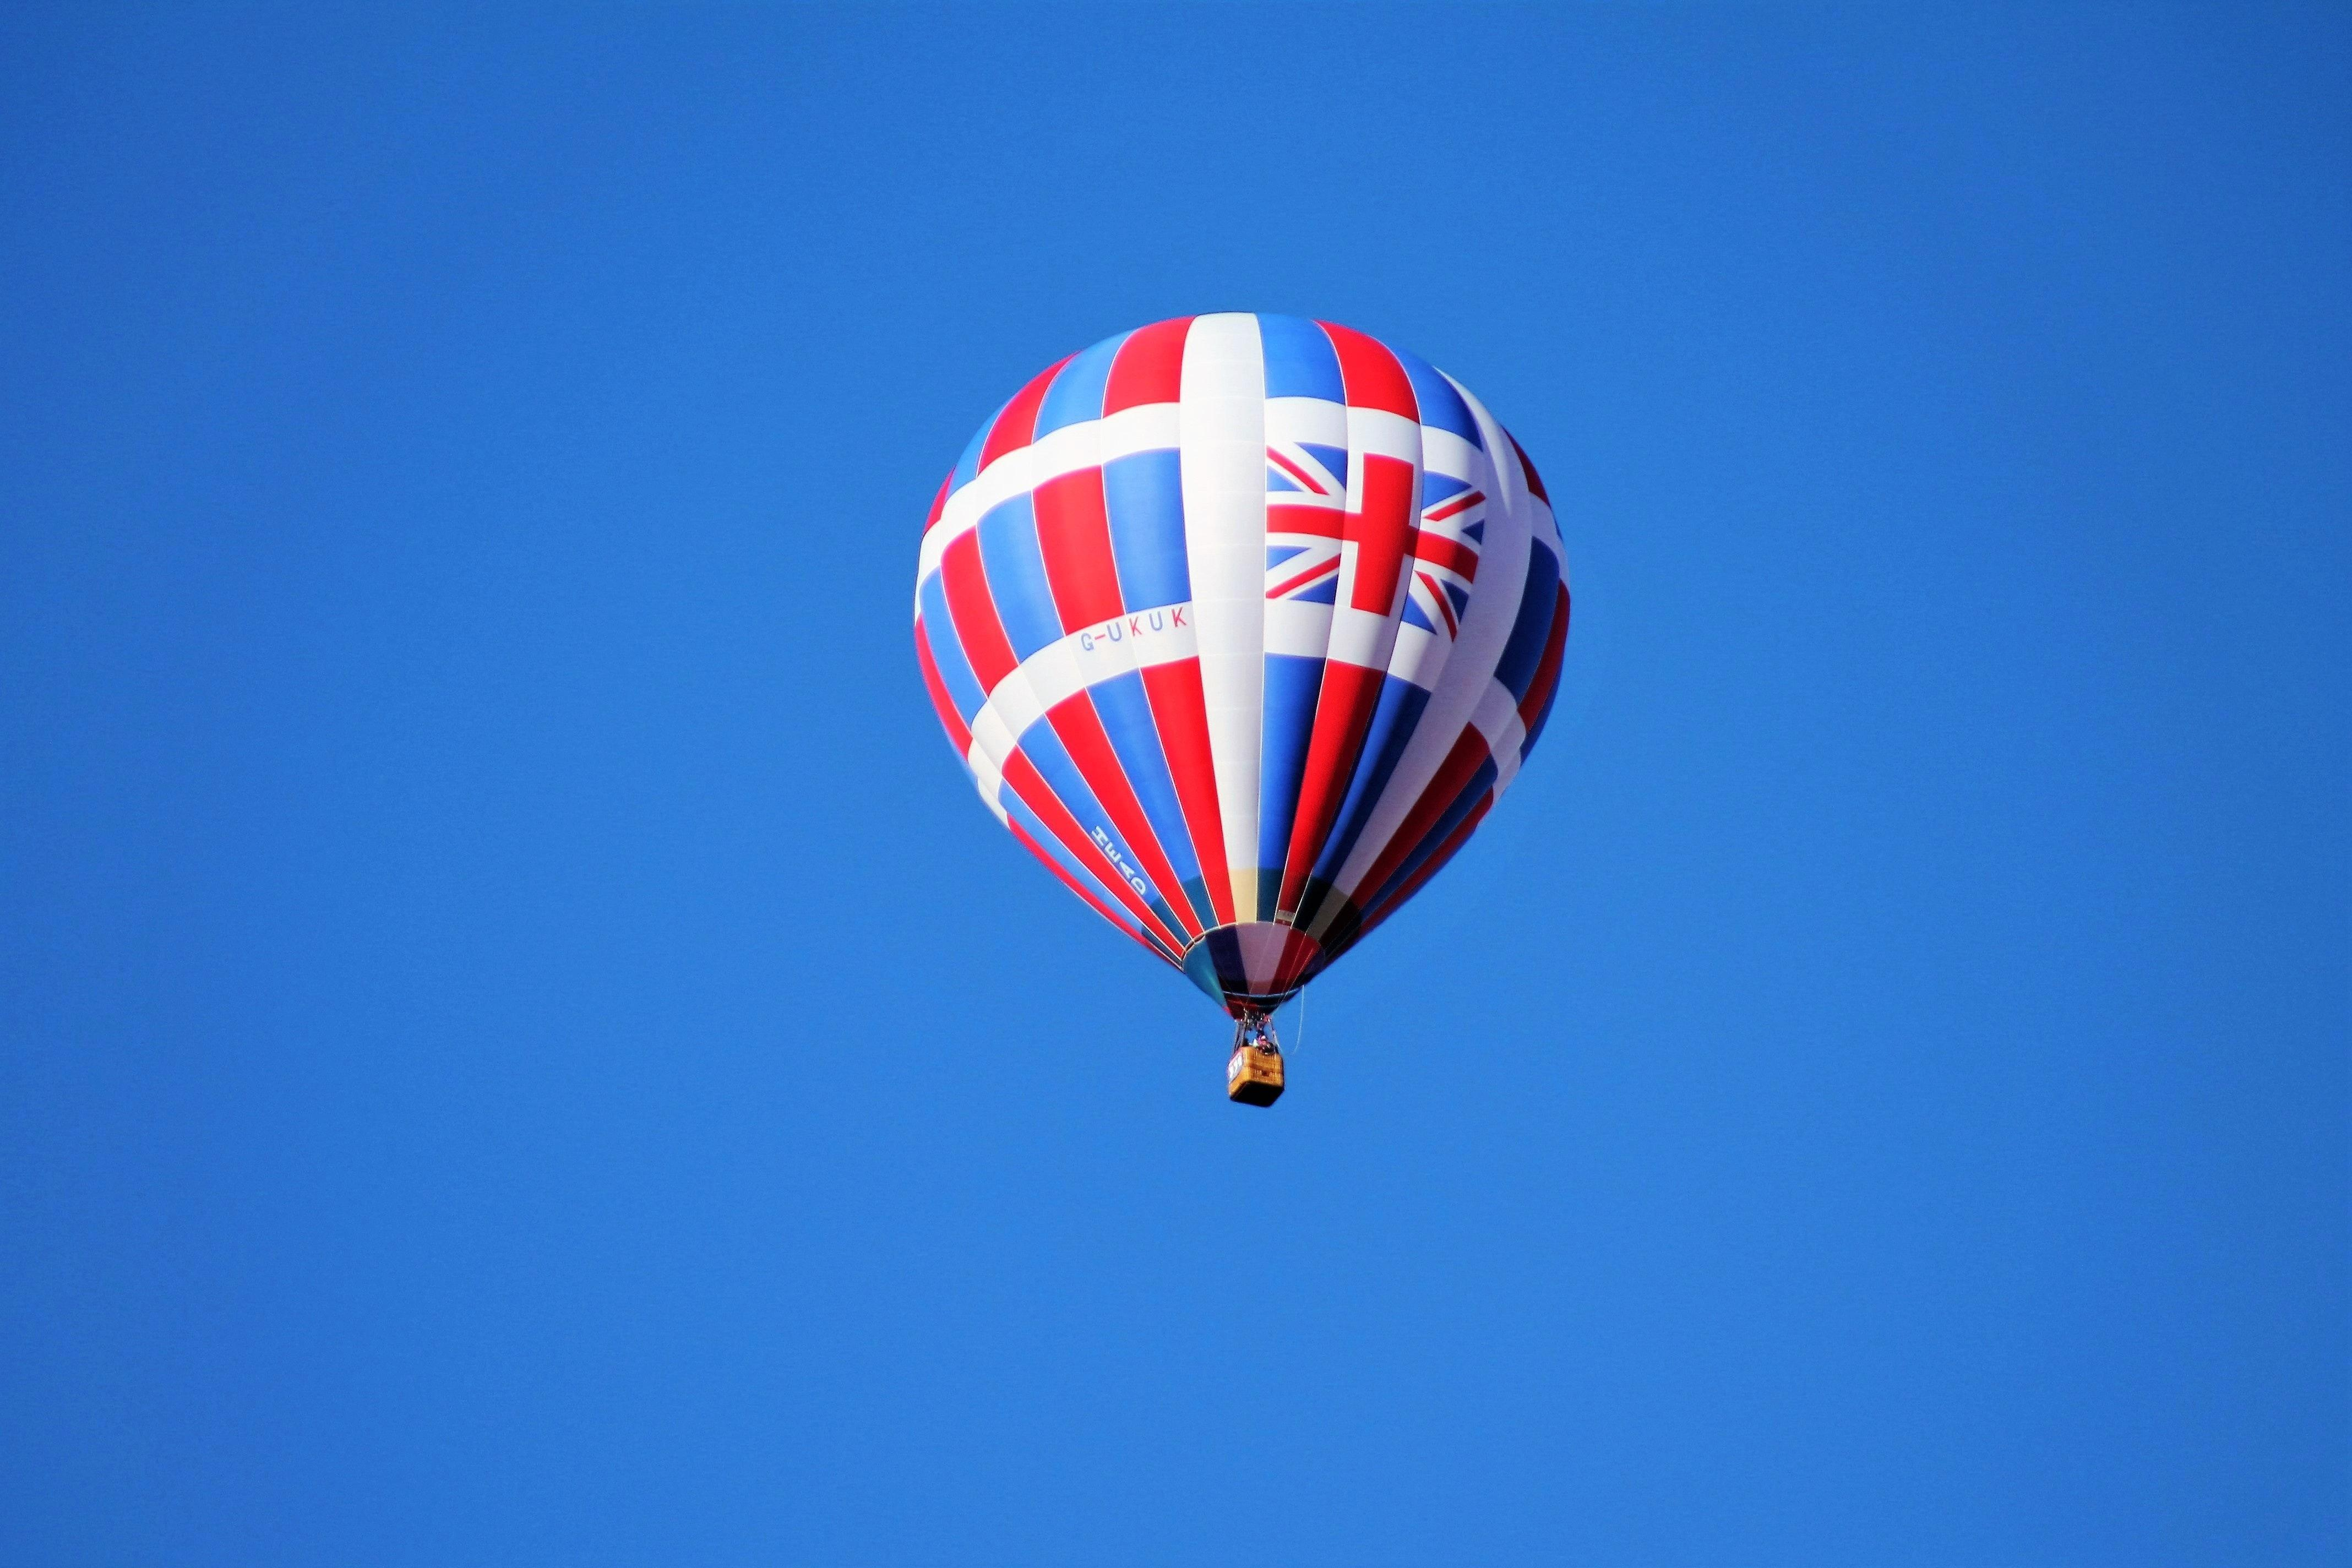hot air ballon: (913, 306, 1570, 1113)
